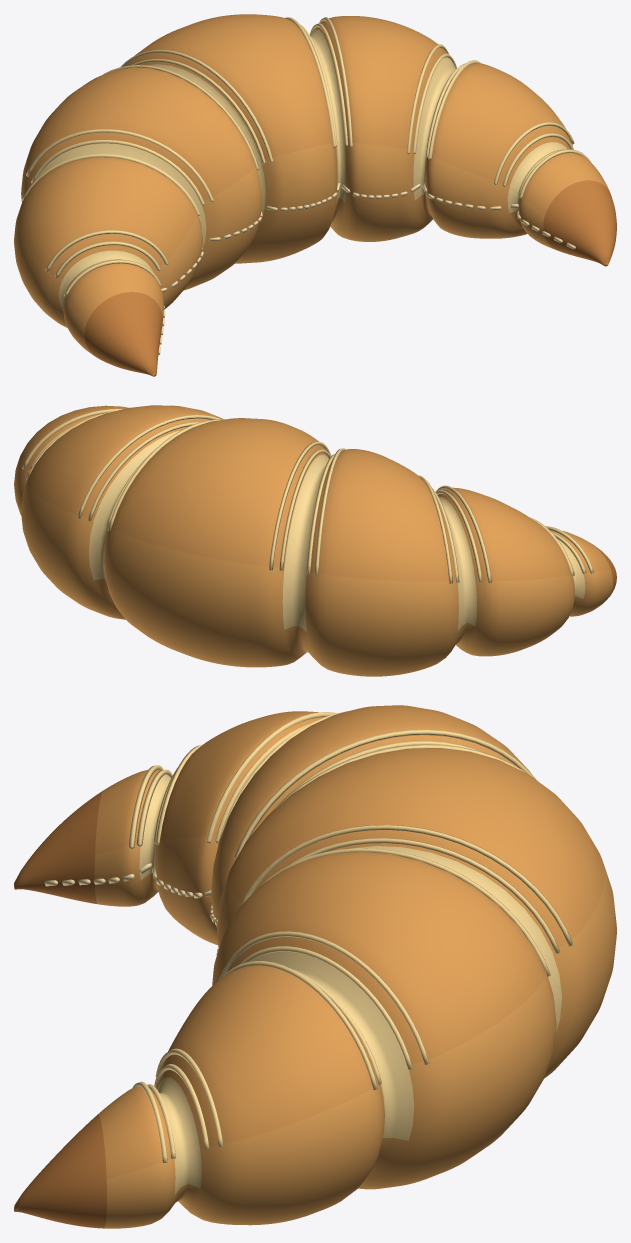
The picture shows the model from 3 angles, top to bottom: view 1: azimuth 30°, elevation 25°; view 2: azimuth 150°, elevation 25°; view 3: azimuth 270°, elevation 25°; orthographic projection. The views are drawn at different scales.
Visible parts, largest first — view 1: croissant_cushion; view 2: croissant_cushion; view 3: croissant_cushion.
Boxes of the visible parts, box(x1,y1,x2,y2) form: croissant_cushion: box(14, 14, 616, 376); croissant_cushion: box(14, 405, 616, 676); croissant_cushion: box(14, 705, 616, 1228).
Bounding box in the file's own units: 0.4644 × 0.1781 × 0.3098.
